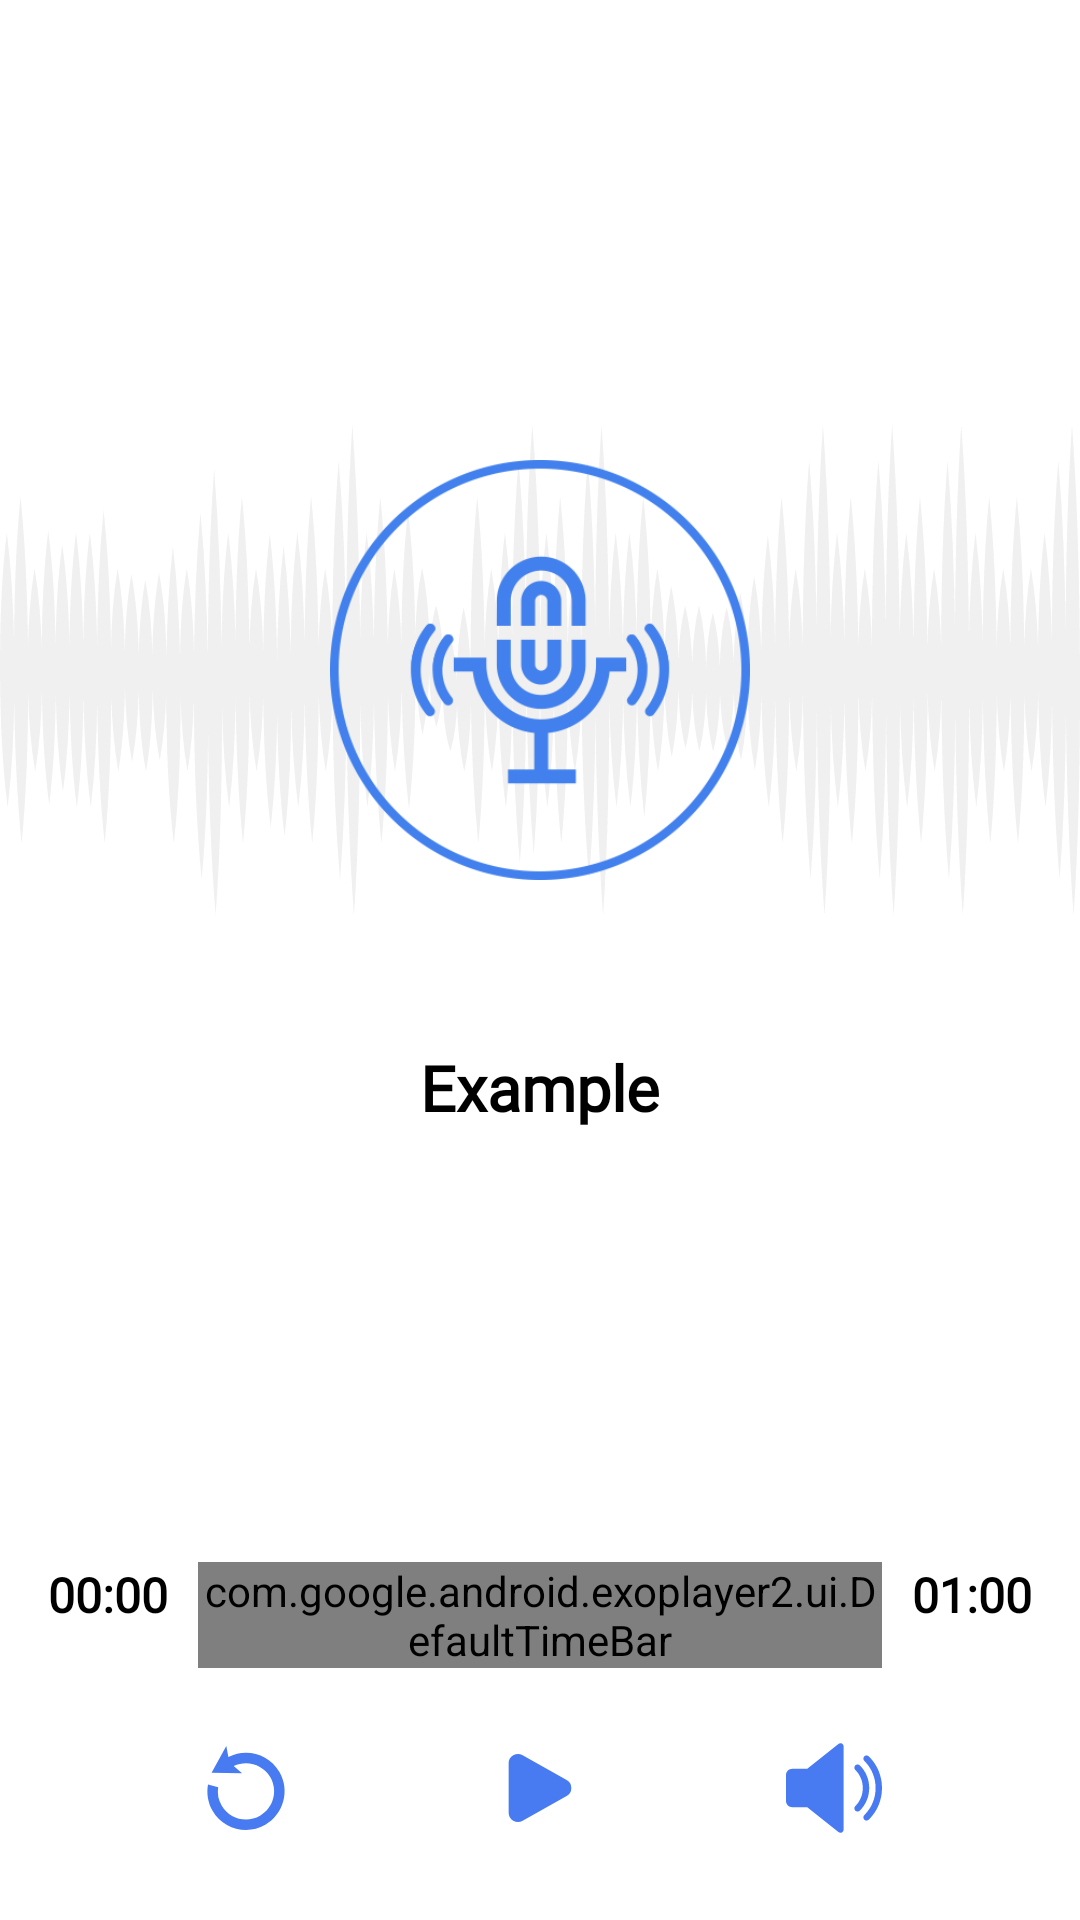

Icons on this 1080*1920 Android screen, each with the point to tap as (x,y):
play media: (540,1788)
reset: (246,1788)
volume: (834,1788)
